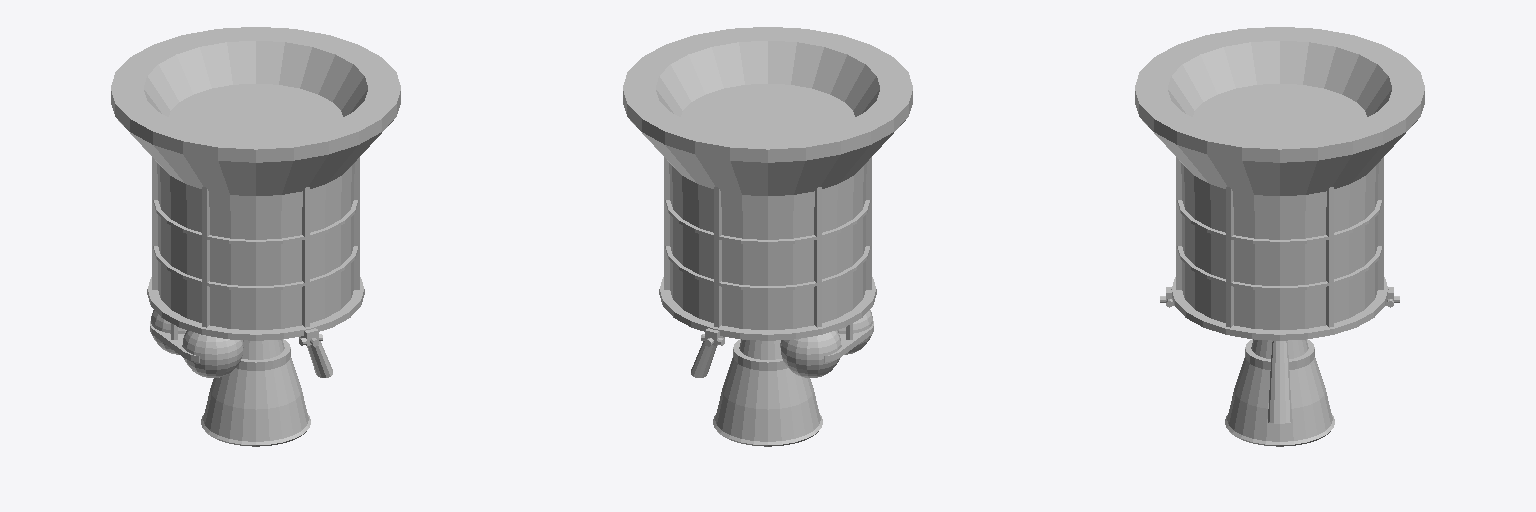
File: AgenaForAO-THE-ACE.obj
3 views of the same model, side by side, from view 1: azimuth 30°, elevation 25°; view 2: azimuth 150°, elevation 25°; view 3: azimuth 270°, elevation 25° (orthographic).
Visible parts, largest first — view 1: Agena_A_Engine_Merge3; view 2: Agena_A_Engine_Merge3; view 3: Agena_A_Engine_Merge3.
Part boxes in pixels (left/top/right/bottom): Agena_A_Engine_Merge3: left=111, top=27, right=400, bottom=446; Agena_A_Engine_Merge3: left=623, top=27, right=912, bottom=446; Agena_A_Engine_Merge3: left=1135, top=27, right=1424, bottom=446.
Size of the model in its own units: 0.9337 by 1.19 by 0.9337.